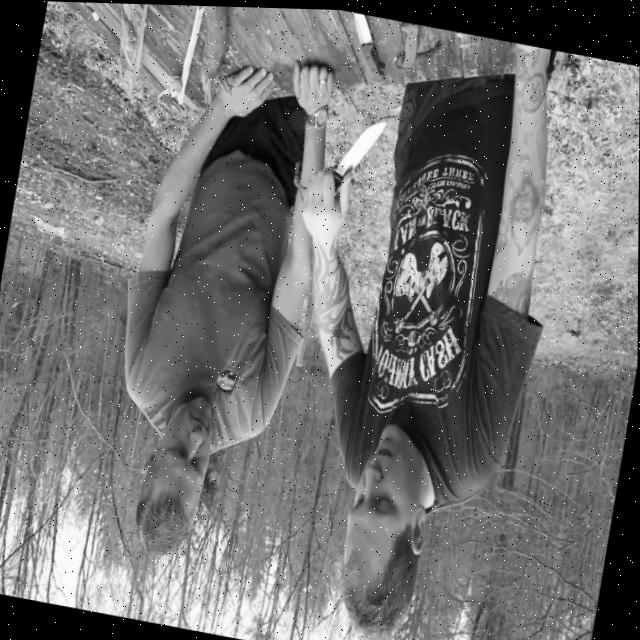knife: (338, 8, 399, 90), (334, 109, 391, 179), (387, 18, 426, 80)
